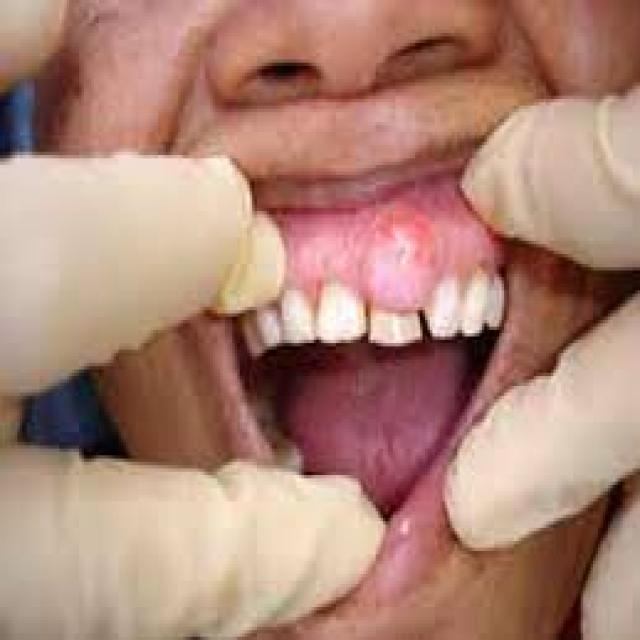abscess: (366, 214, 442, 312), (280, 237, 351, 302)
